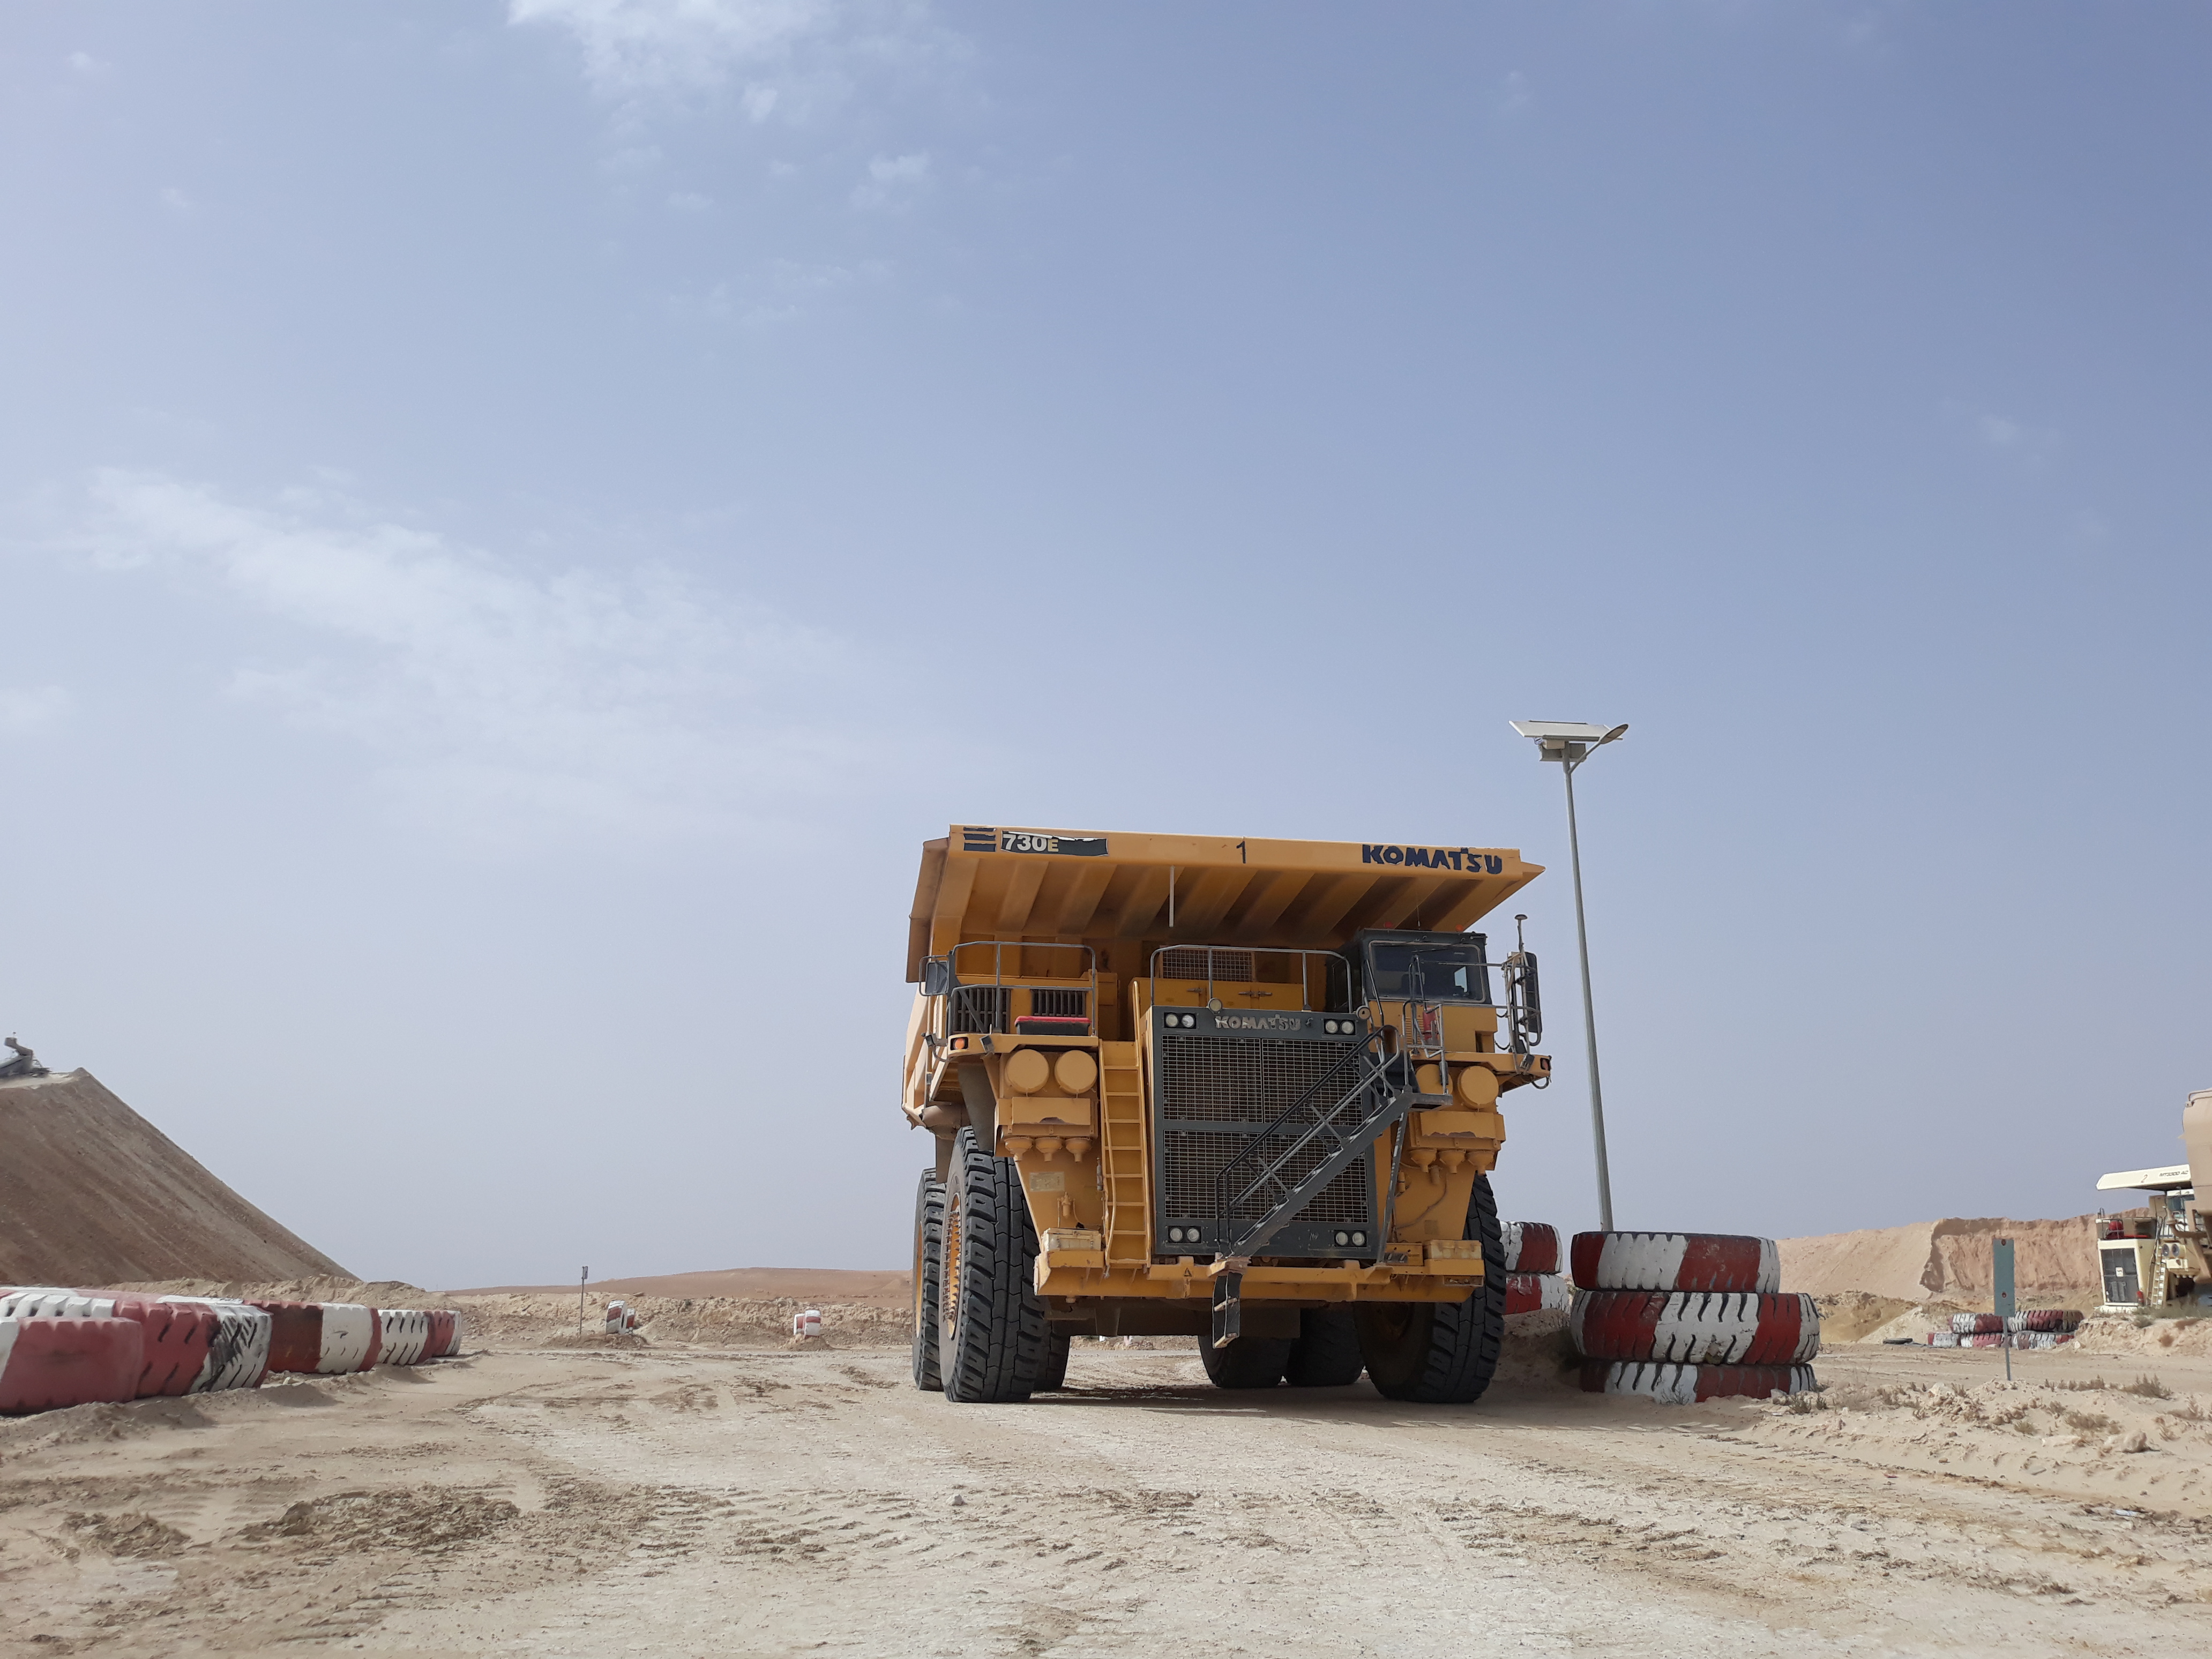camion: (880, 805, 1571, 1497)
